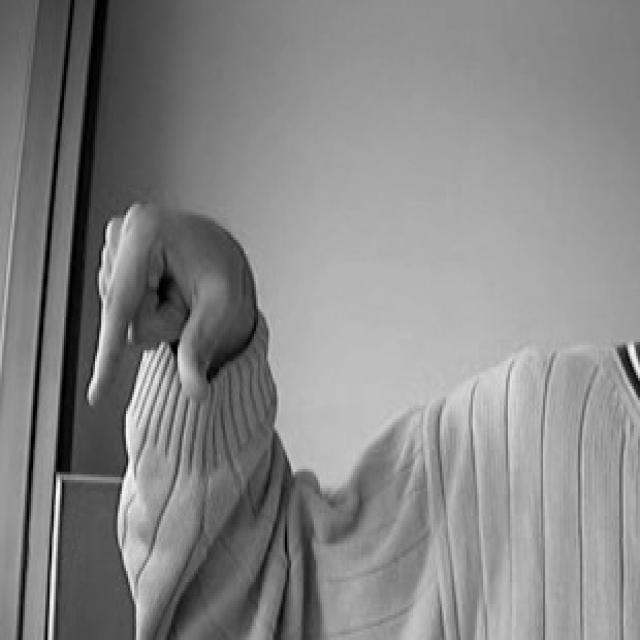Q: (71, 192, 262, 409)
